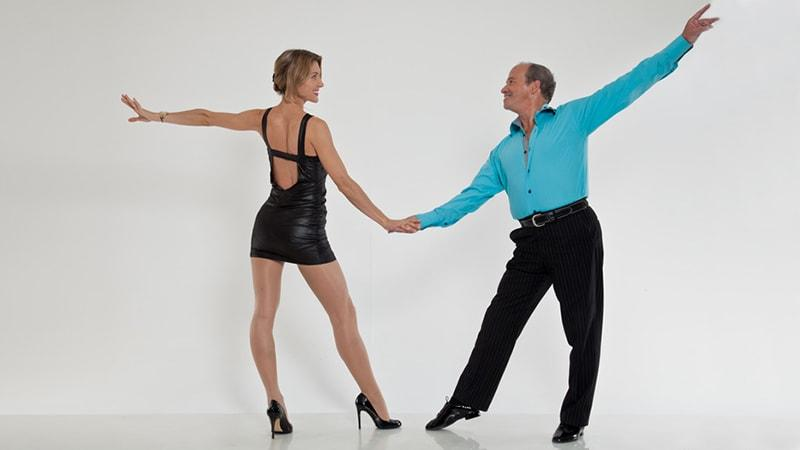without_mask: (294, 63, 320, 101), (503, 76, 531, 111)
